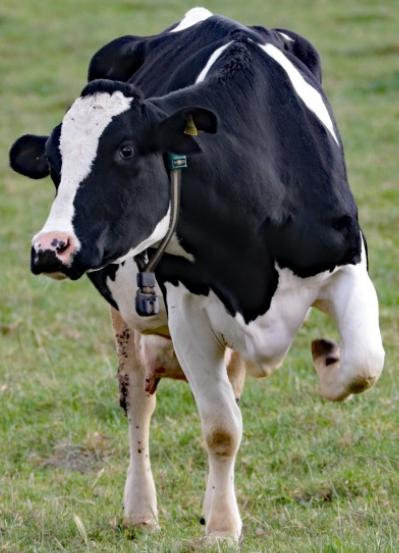cow: (8, 3, 386, 541)
